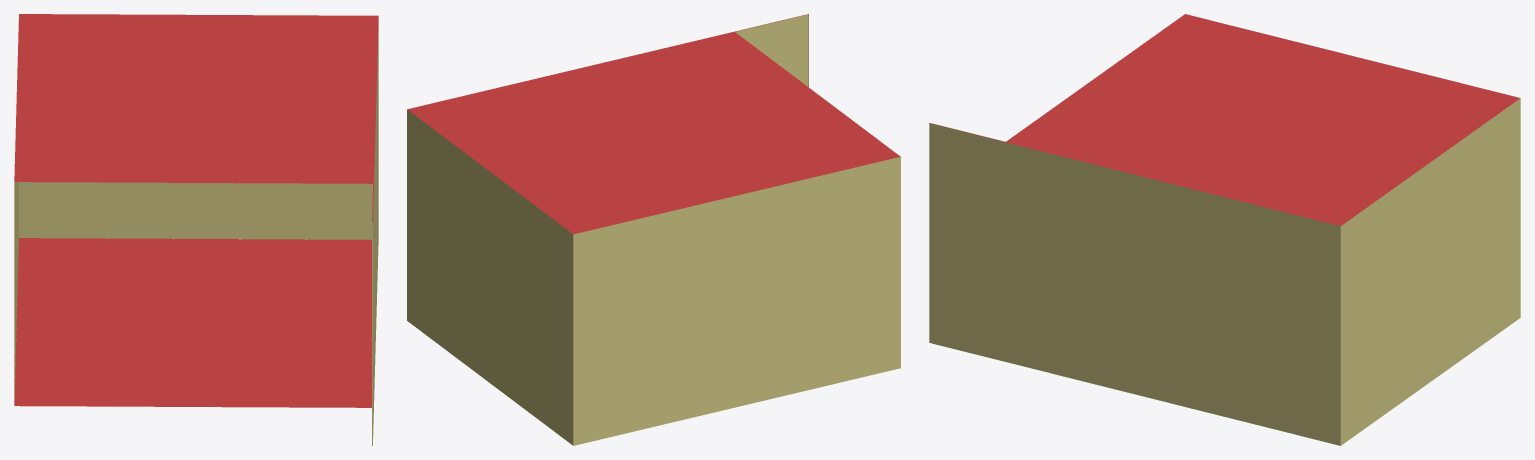
3 views of the same model, side by side, from view 1: azimuth 30°, elevation 25°; view 2: azimuth 150°, elevation 25°; view 3: azimuth 270°, elevation 25° (orthographic). The views are drawn at different scales.
Parts seen in each view (by area): view 1: group_3, group_5, group_4; view 2: group_4, group_3; view 3: group_4, group_3.
Part boxes in pixels (left/top/right/bottom): group_3: left=14, top=14, right=378, bottom=221; group_5: left=14, top=238, right=371, bottom=407; group_4: left=14, top=21, right=378, bottom=445; group_4: left=407, top=14, right=900, bottom=445; group_3: left=407, top=14, right=900, bottom=234; group_4: left=929, top=98, right=1520, bottom=445; group_3: left=929, top=14, right=1520, bottom=226.
Bounding box in the file's own units: 9.25 × 10.89 × 4.47.
